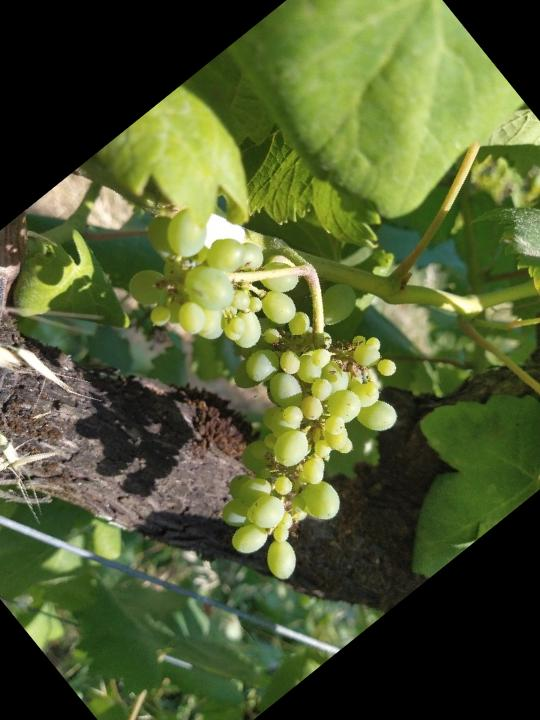grape: (36, 144, 474, 599)
